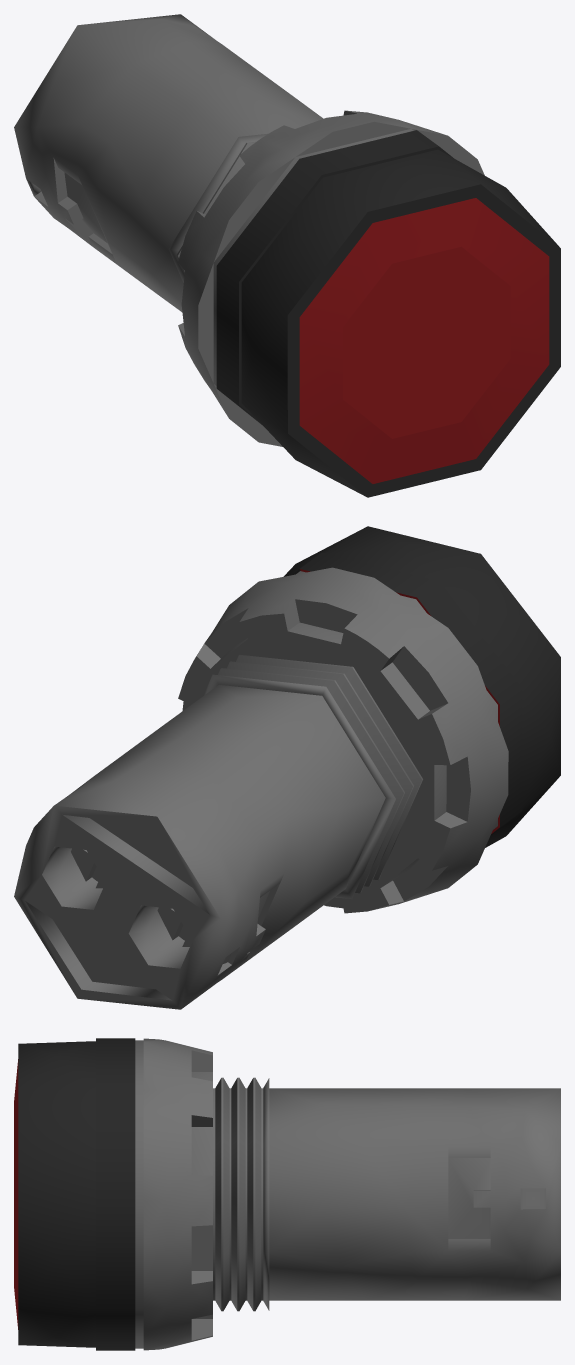
The model's file is Boton-Retroiluminado.fbx.
3 views of the same model, one above another, from view 1: azimuth 30°, elevation 25°; view 2: azimuth 150°, elevation 25°; view 3: azimuth 270°, elevation 25° (orthographic). The views are drawn at different scales.
Parts seen in each view (by area): view 1: Cube.011, Cube.010; view 2: Cube.010, Cube.011; view 3: Cube.010, Cube.011.
Part boxes in pixels (x1,y1,x2,y2): Cube.011: (216,130,560,497); Cube.010: (14,14,484,446); Cube.010: (14,567,508,1009); Cube.011: (283,526,560,847); Cube.010: (135,1038,560,1350); Cube.011: (14,1038,135,1350).
Bounding box in the file's own units: 2.51 × 2.51 × 4.34.
